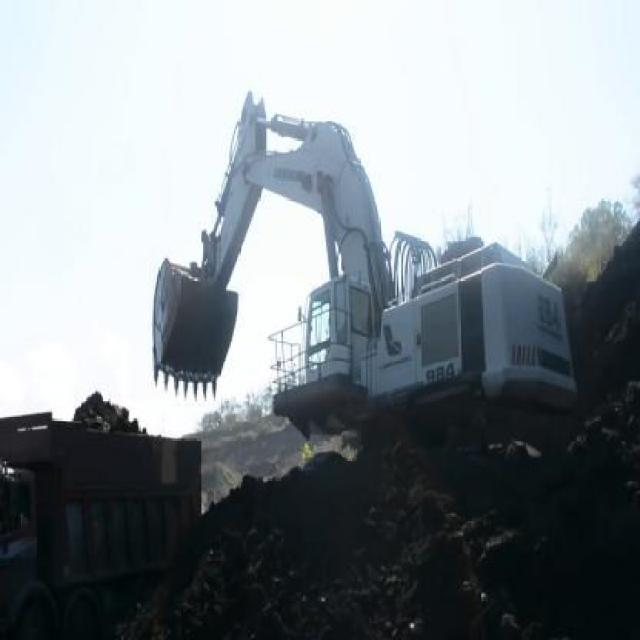excavator: (134, 88, 577, 442)
